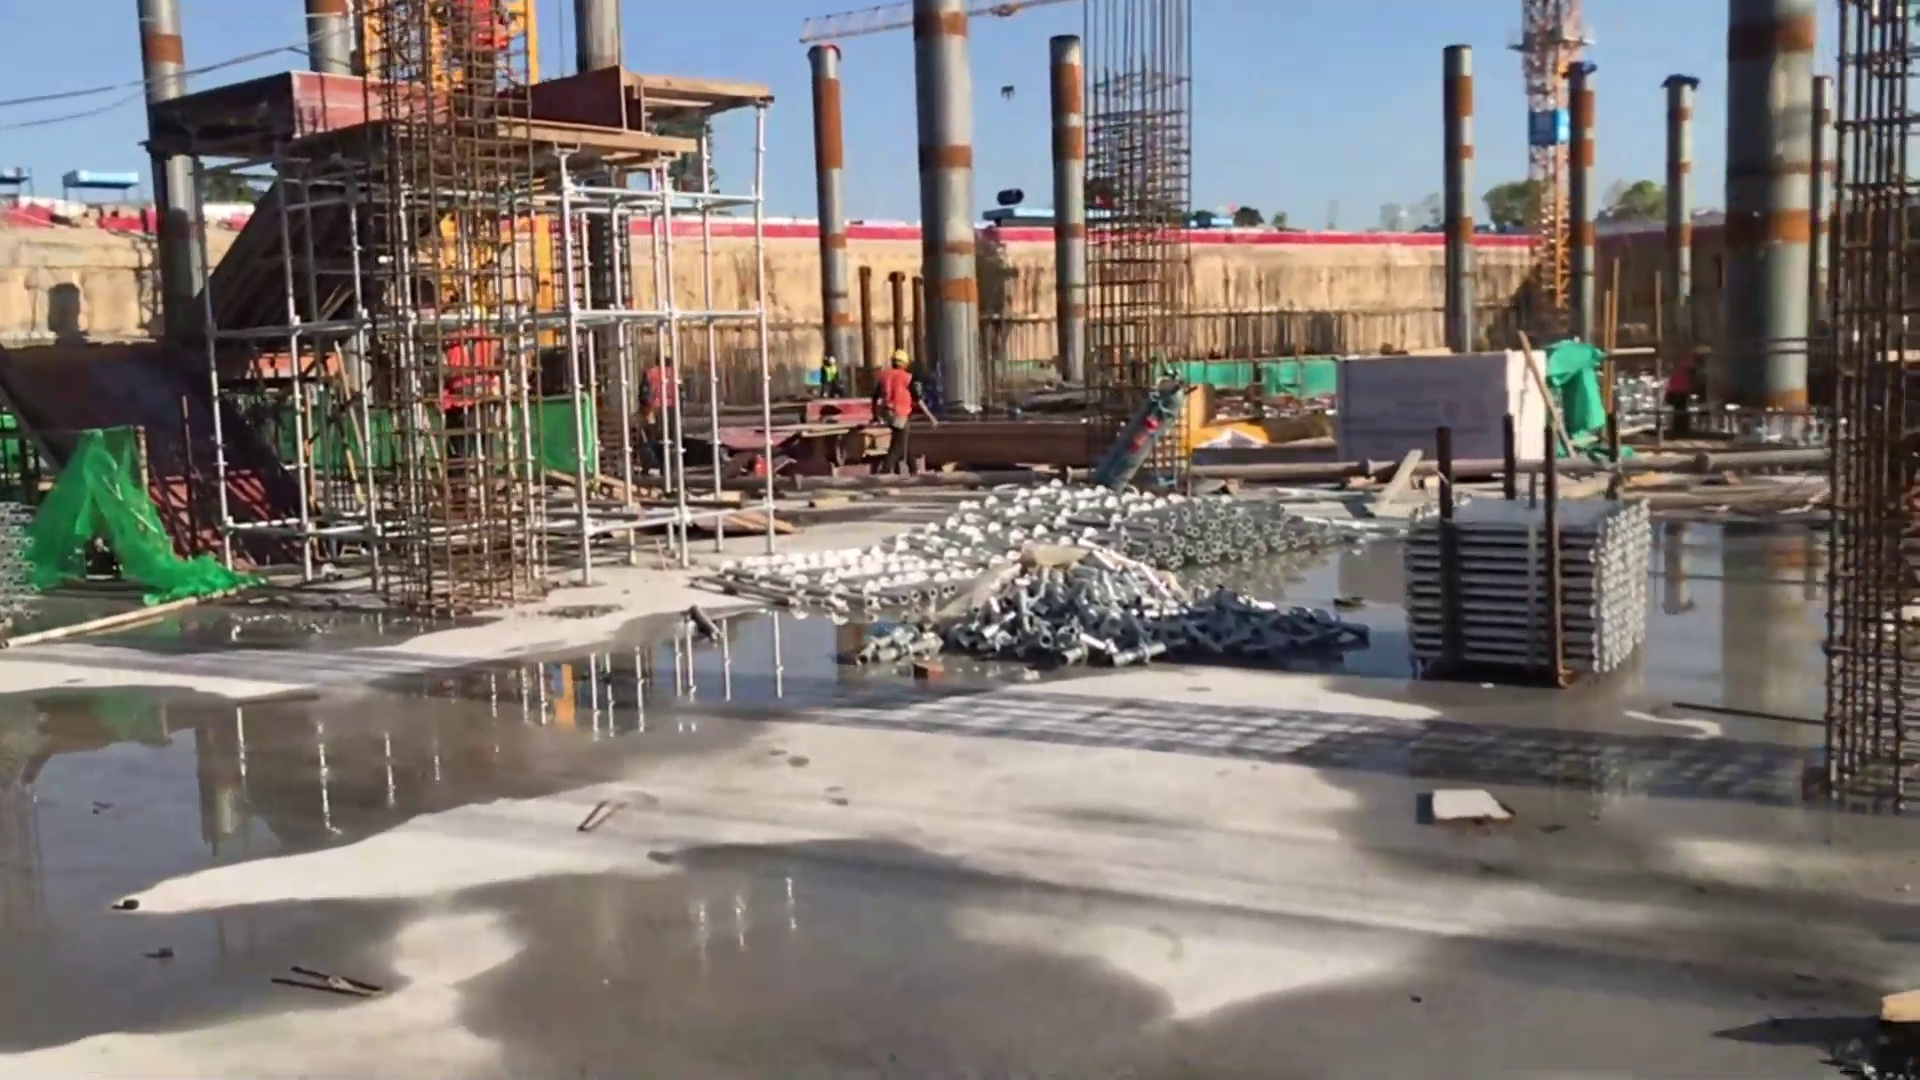helmet: (892, 349, 906, 363)
person: (874, 346, 923, 454), (640, 346, 683, 439), (819, 353, 846, 399)
